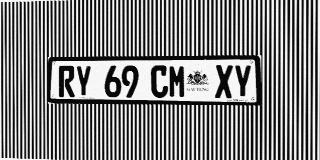6: (105, 65, 121, 97)
9: (122, 65, 138, 98)
C: (151, 65, 168, 98)
M: (169, 65, 186, 98)
R: (59, 66, 75, 97)
X: (215, 65, 233, 98)
Y: (233, 65, 252, 98), (75, 65, 91, 97)
